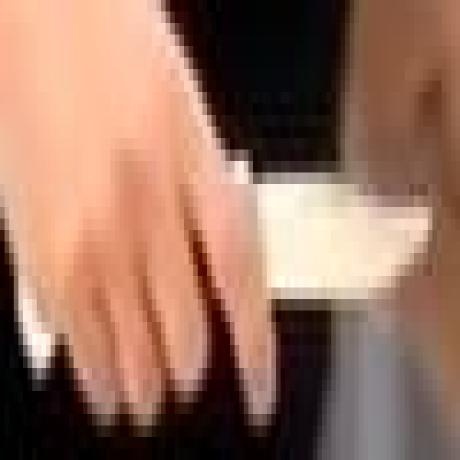1: (0, 0, 281, 449)
weapon: (233, 138, 435, 328)
